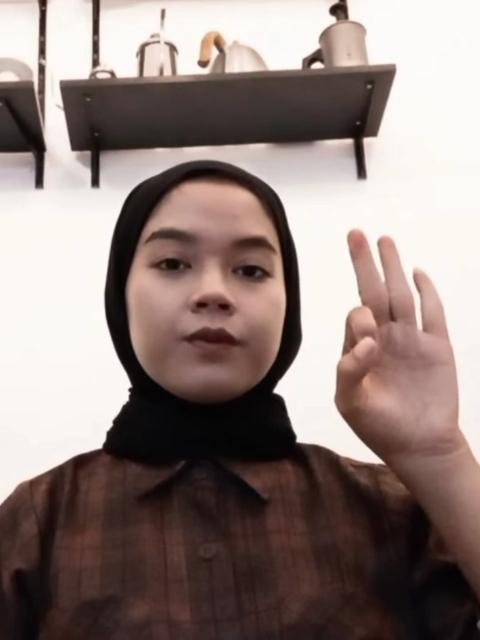F: (322, 219, 464, 453)
